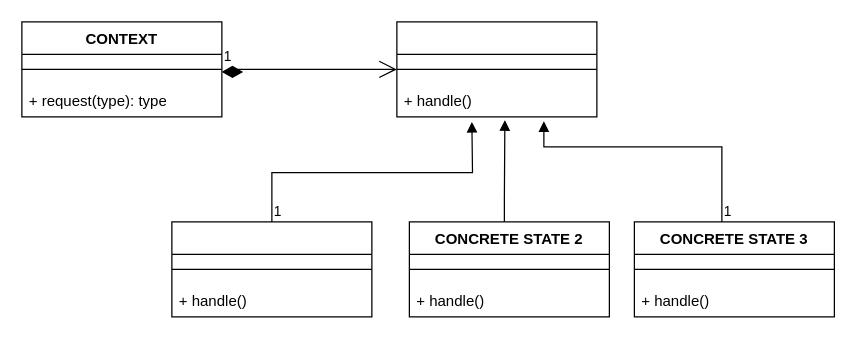
Some shapes in this 856 by 343 pixel diagram are drawn without their labels. Each missing label, with the box of its shape:
CONCRETE STATE 1: (171, 221, 372, 317)
STATE: (396, 21, 597, 117)
